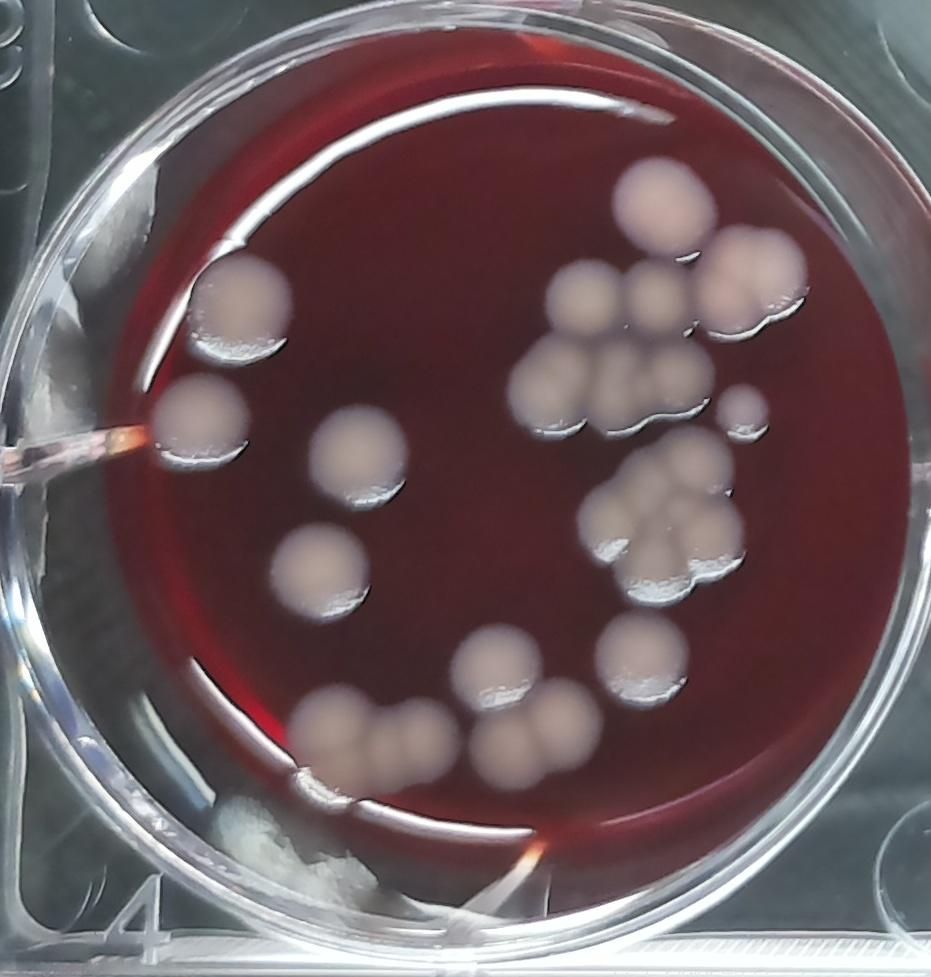bcereus: (573, 427, 753, 609), (447, 616, 605, 787), (288, 681, 462, 818), (692, 221, 816, 347), (584, 334, 719, 437), (183, 250, 298, 368), (261, 518, 377, 631), (579, 607, 699, 716), (302, 400, 414, 516), (140, 370, 259, 478), (604, 149, 719, 259), (500, 330, 589, 440), (535, 253, 623, 340), (617, 257, 704, 343), (709, 382, 774, 445)
